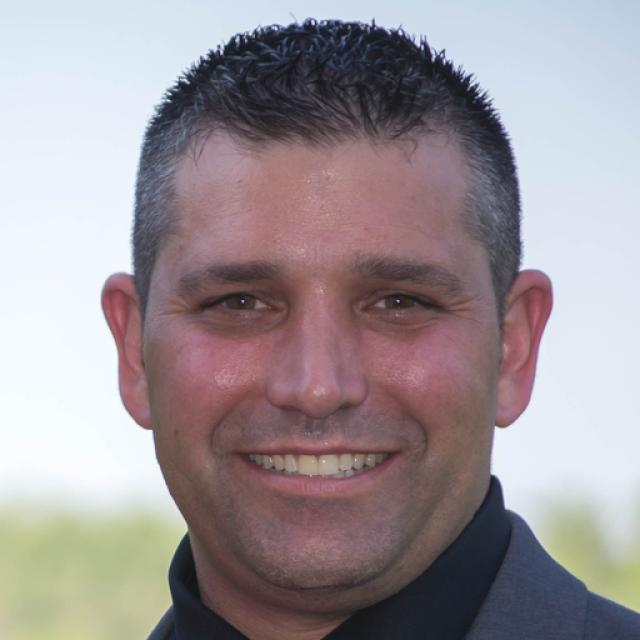Dark Circle: (204, 305, 289, 337), (356, 310, 443, 336)
